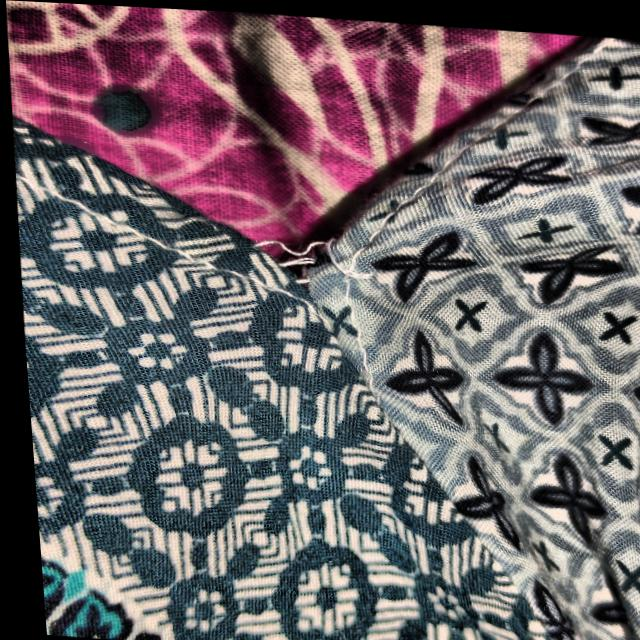Stitch: (205, 211, 414, 297)
